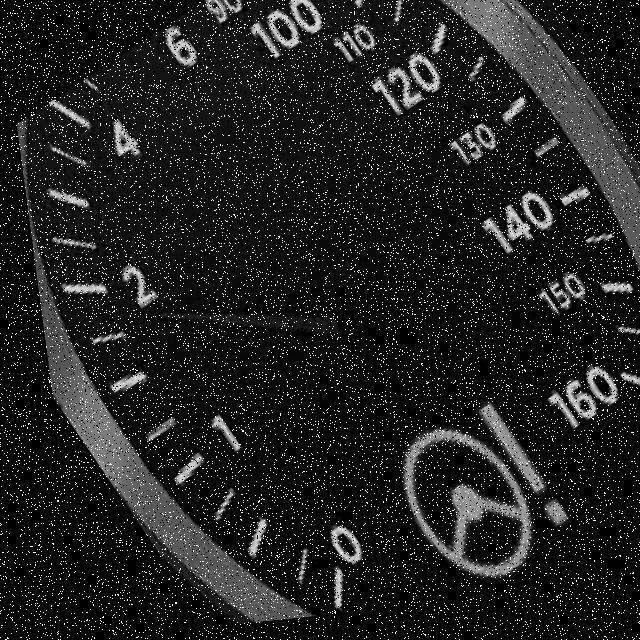Electronic Power Steering: (342, 382, 580, 616)
